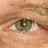eye: (17, 21, 30, 31)
